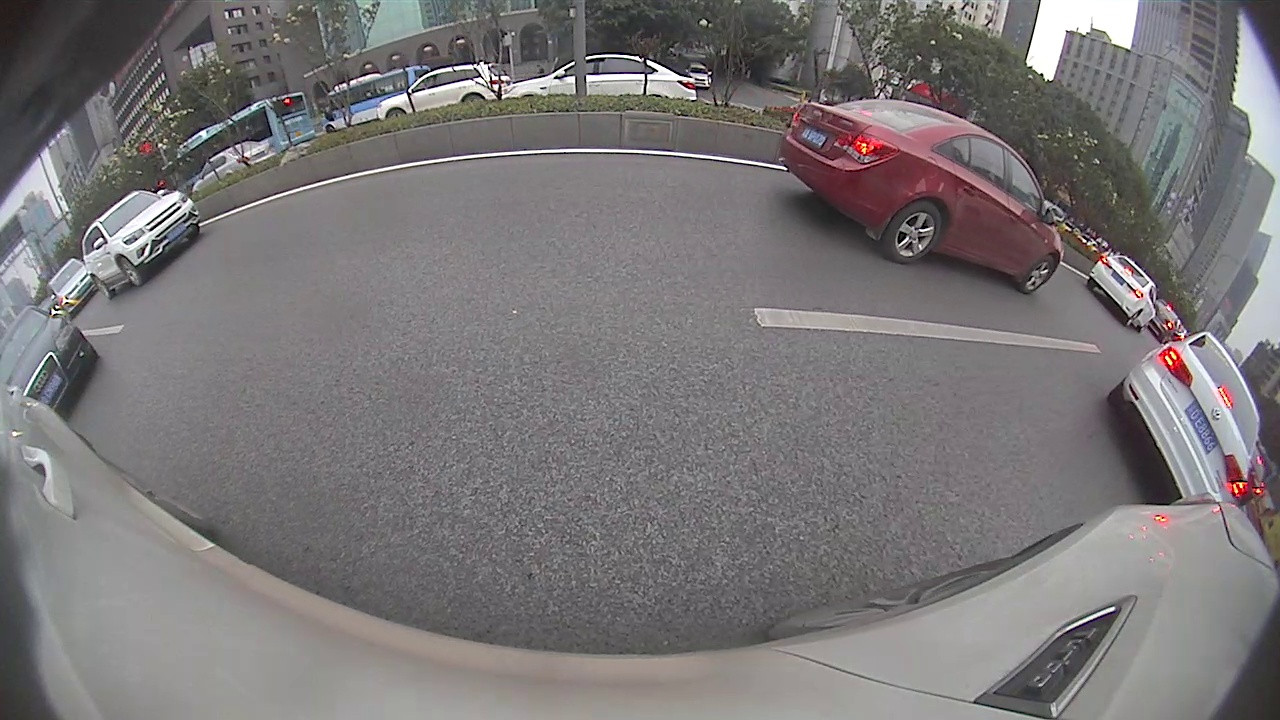car: (776, 97, 1065, 295), (1104, 321, 1260, 505), (80, 187, 203, 299), (0, 301, 99, 411), (500, 52, 703, 101), (379, 63, 513, 119), (1085, 253, 1160, 331)
front: (1020, 255, 1056, 293), (116, 255, 143, 286), (387, 108, 405, 127)
rear: (886, 199, 944, 265), (92, 276, 113, 301), (463, 94, 485, 115)
